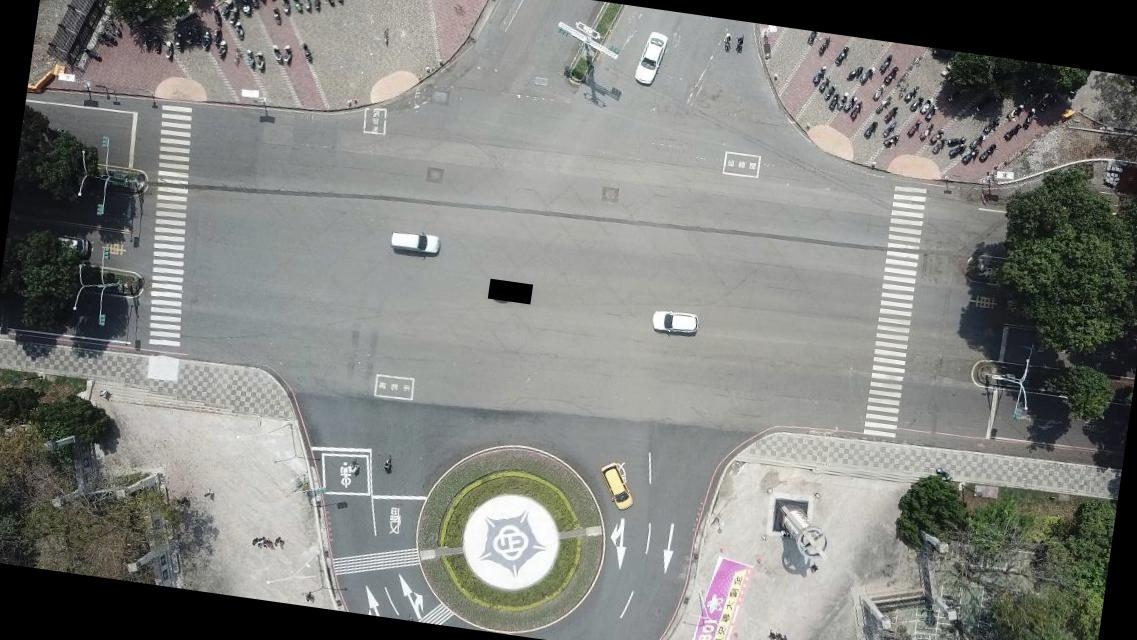vehicle: (632, 30, 669, 88), (596, 461, 638, 512), (388, 228, 442, 258), (649, 307, 701, 338)
